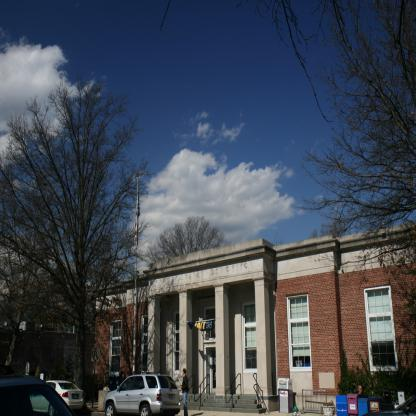Car: (103, 370, 181, 416), (0, 374, 73, 416), (29, 380, 84, 416), (361, 398, 416, 416)
